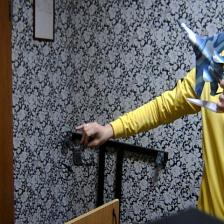drone: (54, 125, 98, 182)
